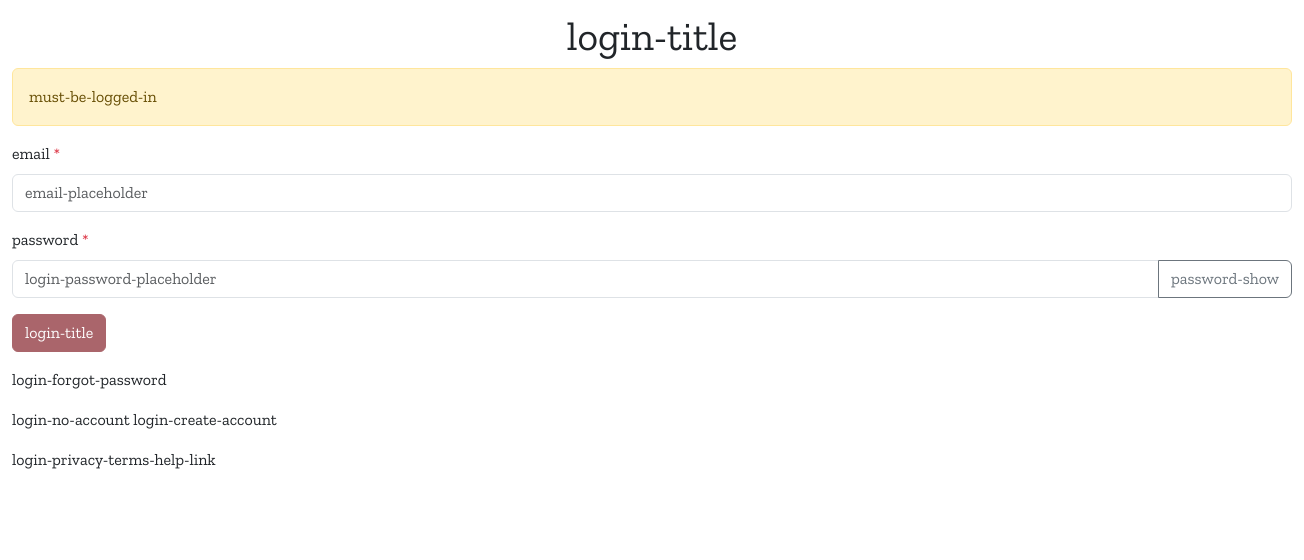
Test: Login › renders and submits the form when the form is valid but receives InvalidCredentialsException
# Fill the form
Type "test@example.com" into the field with placeholder "email-placeholder".
click(652, 193); type("test@example.com")  # box [12,174,1292,212]
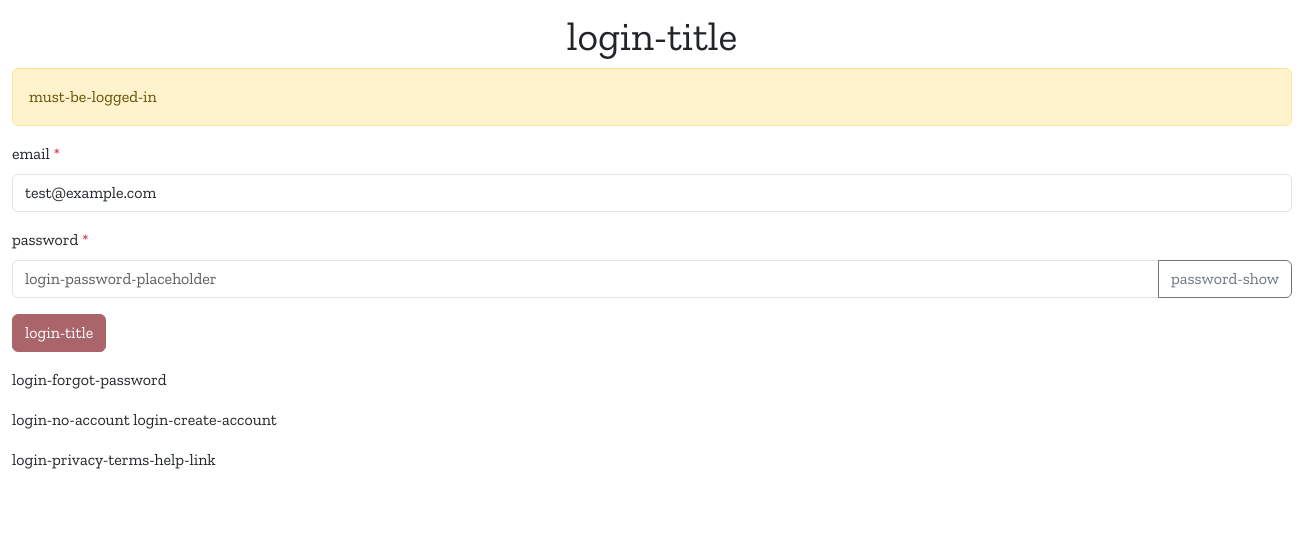
Type "test" into the password field with placeholder "login-password-placeholder".
click(586, 279); type("test")  # box [12,260,1159,298]
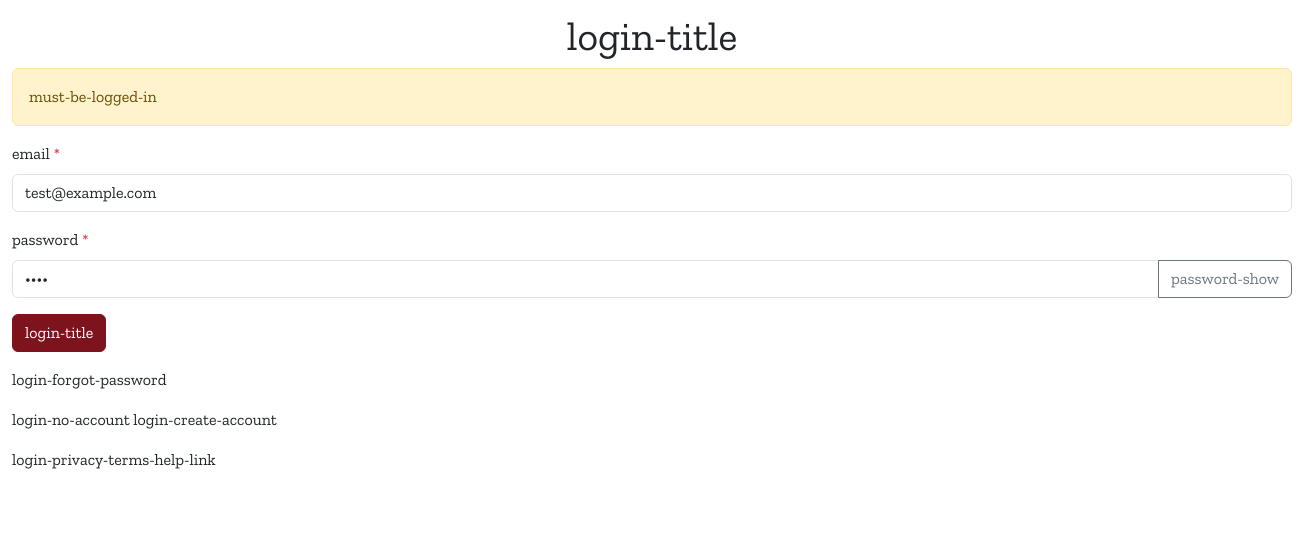
Submit the form from the button "login-title", box [12,314,106,352]
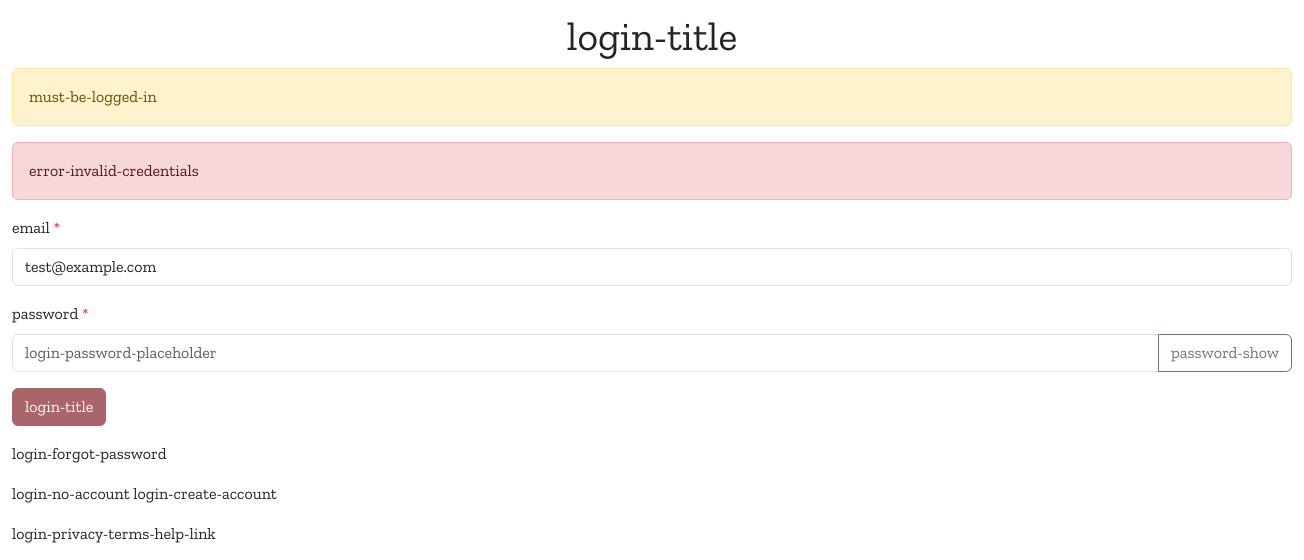
Expected: the text "error-invalid-credentials" is shown, [12,142,1292,200]
Expected: the password field with placeholder "login-password-placeholder" is empty, [12,334,1159,372]
